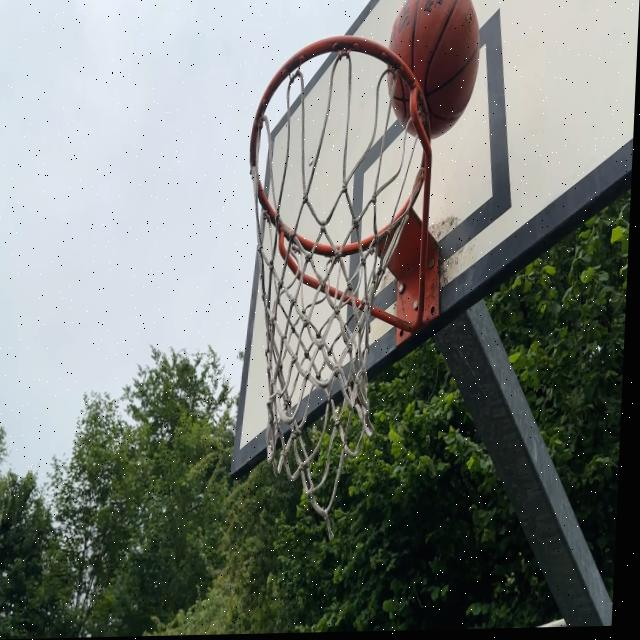rebound_hit: (385, 0, 483, 140)
